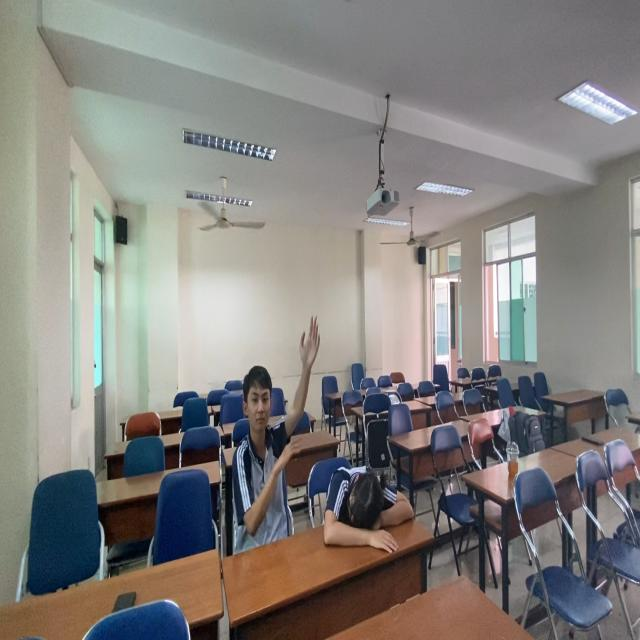raise_hand: (222, 315, 324, 528)
sleep: (313, 447, 424, 541)
